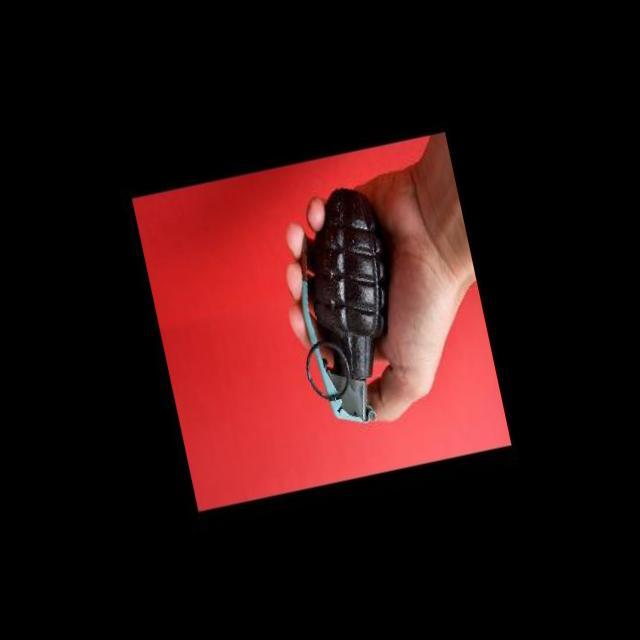grenade: (267, 166, 430, 443)
